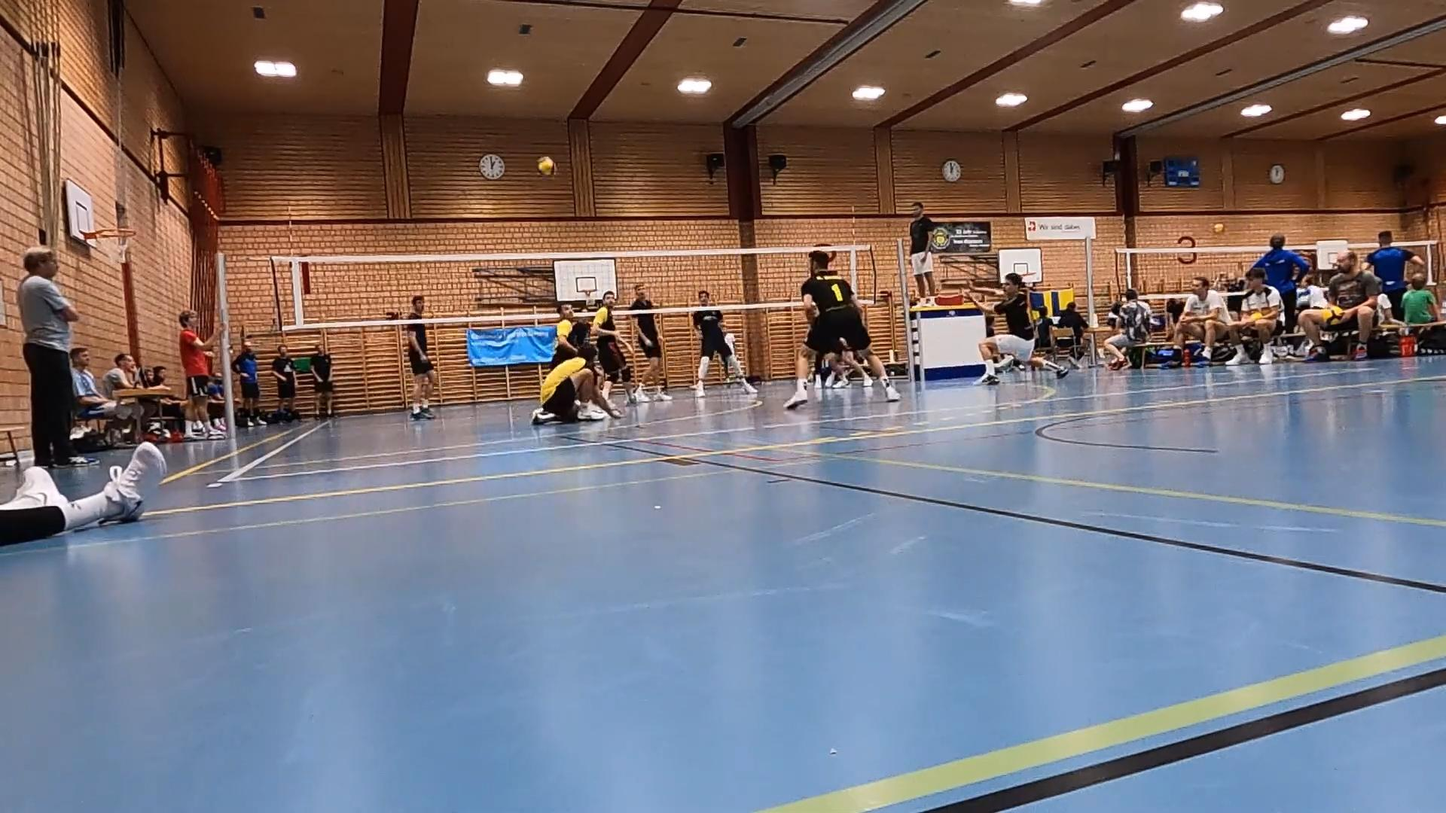difesa: (530, 339, 624, 429)
